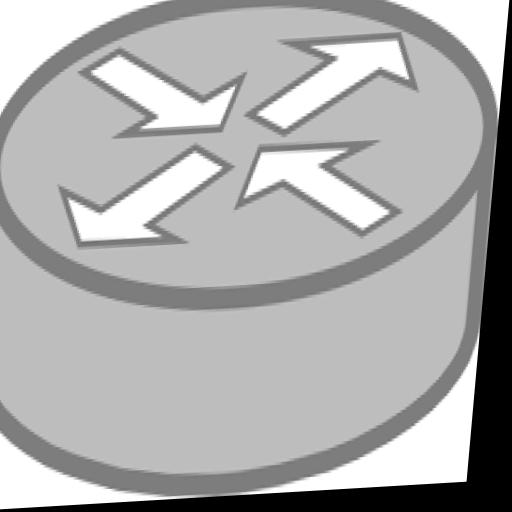Router: (0, 0, 512, 512)
